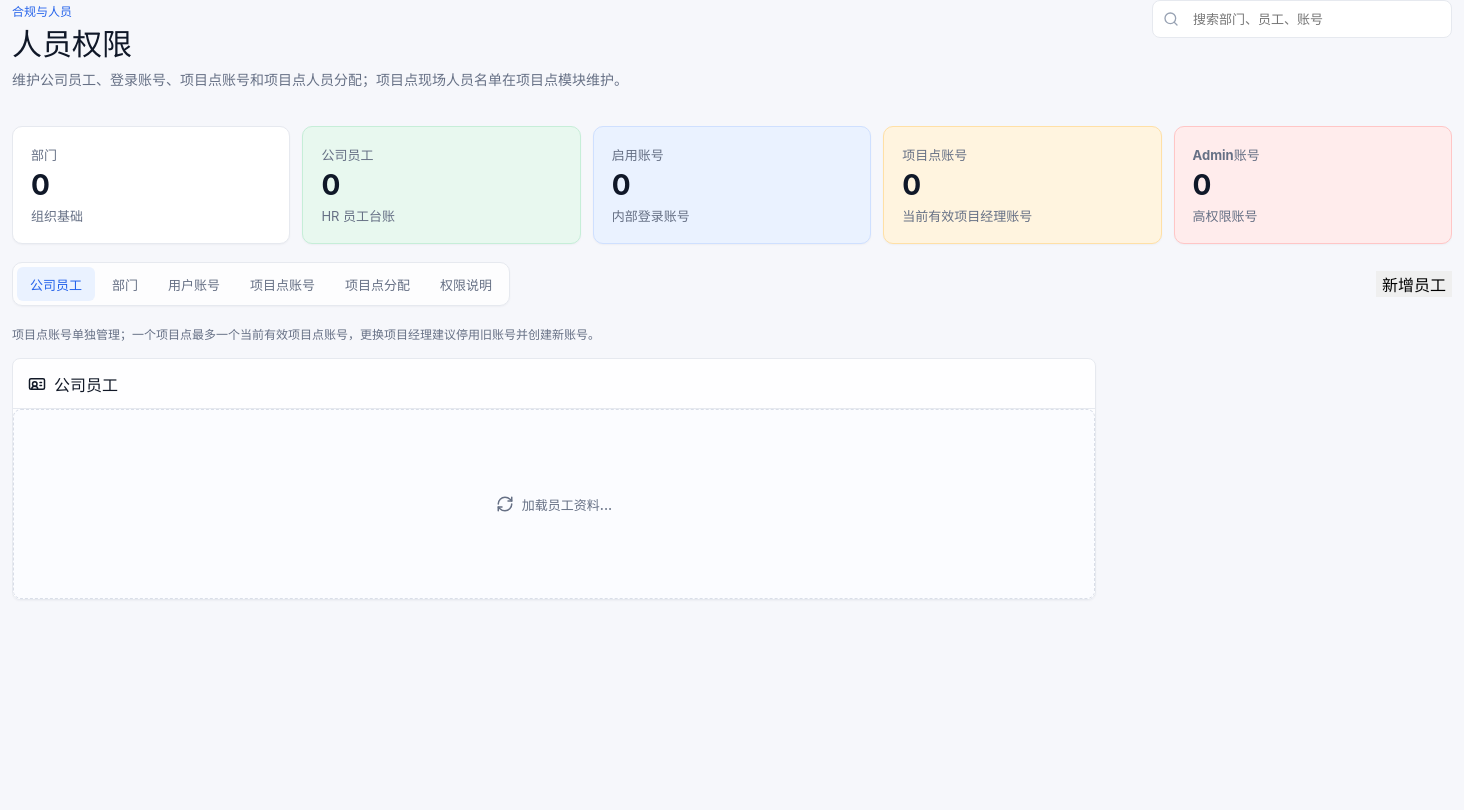
Test: PeoplePermissions access-review export › shows MFA status and public internet MFA requirement in user accounts table
Step 1. Click the tab "用户账号" → (194, 284), box [155, 268, 233, 302]
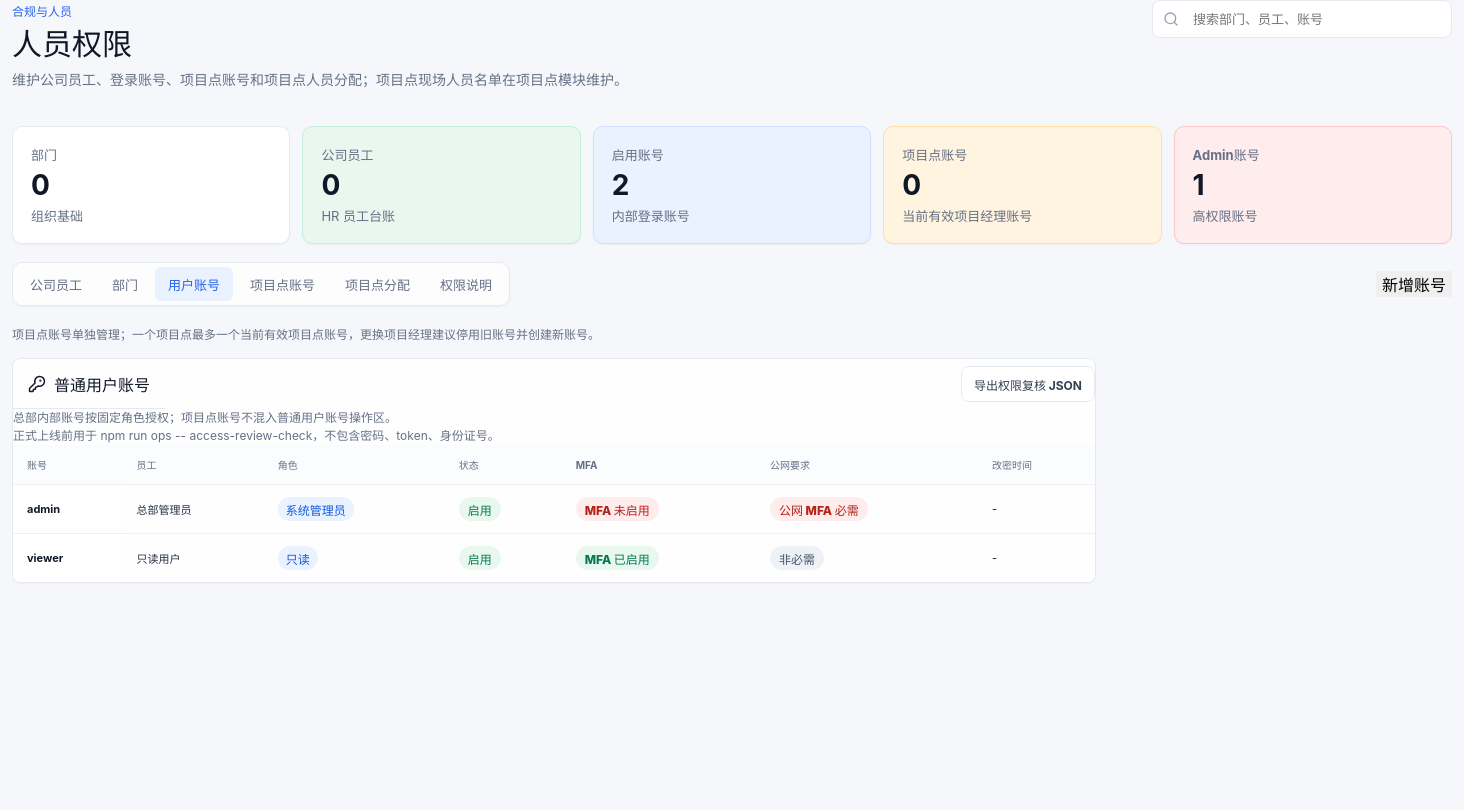
Check: the text "MFA 未启用" is shown, box [576, 498, 659, 522]
Check: the text "公网 MFA 必需" is shown, box [770, 498, 868, 522]
Check: the text "MFA 已启用" is shown, box [576, 546, 659, 570]
